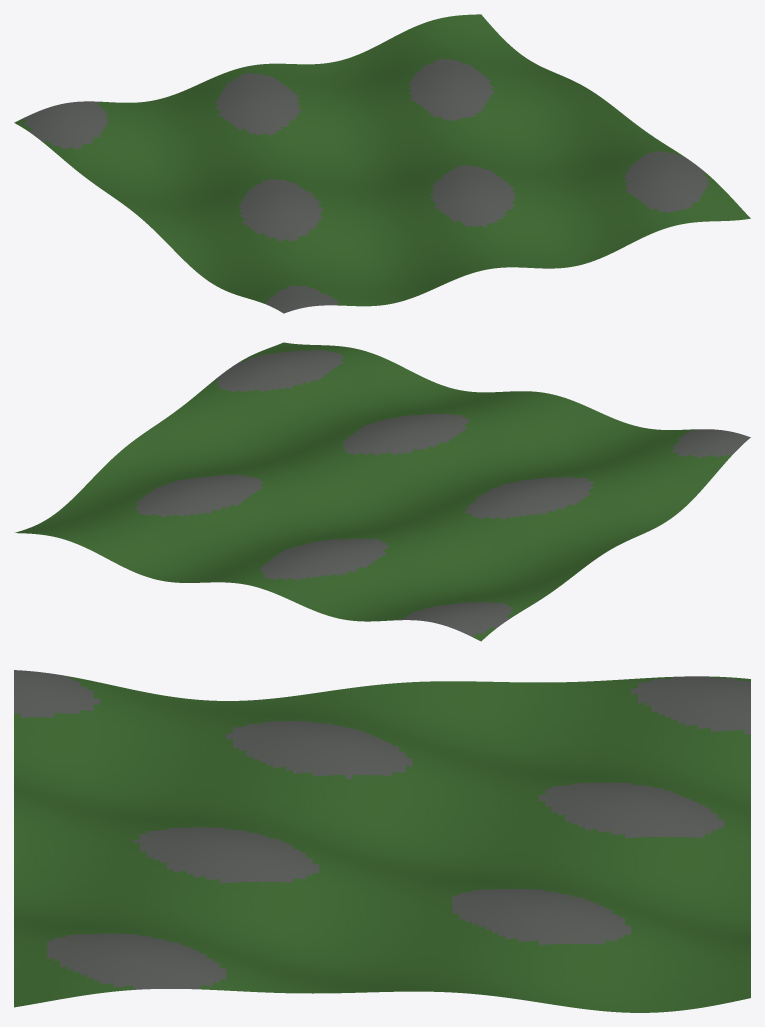
Rendered from mountain_pass_112.obj.
3 renders of one model, top to bottom at view 1: azimuth 30°, elevation 25°; view 2: azimuth 150°, elevation 25°; view 3: azimuth 270°, elevation 25°, orthographic. The views are drawn at different scales.
Bounding box in the file's own units: 222 × 11.4 × 222.
